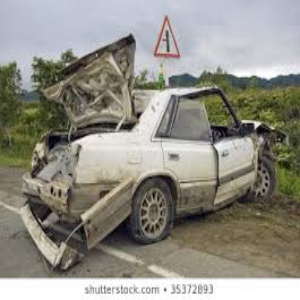bumper: (6, 180, 82, 267)
door: (176, 148, 253, 214)
